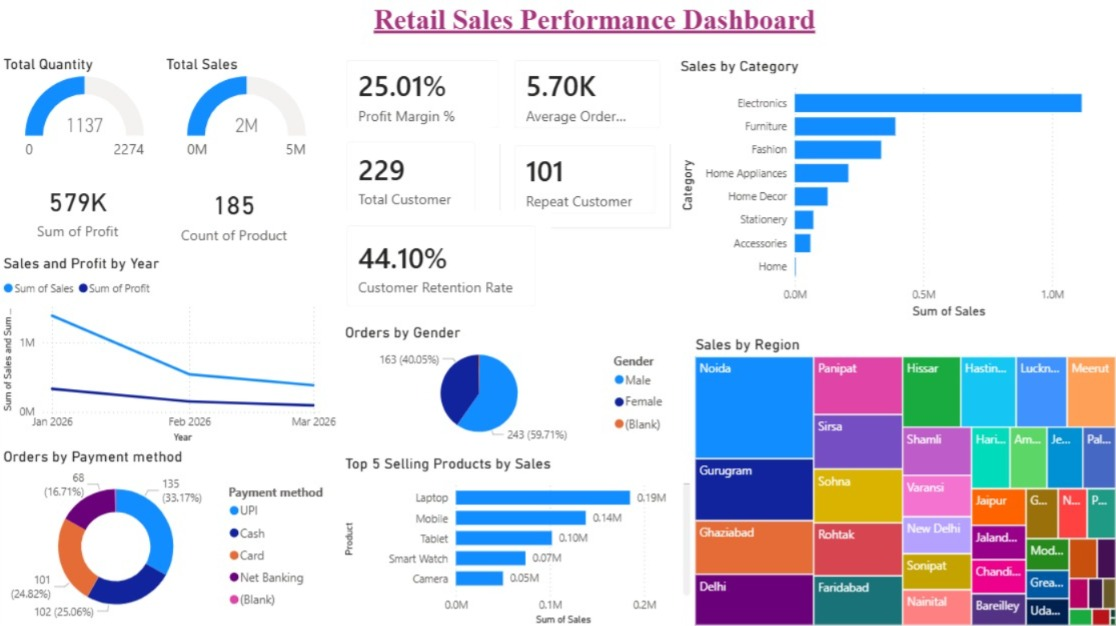

This screenshot's page, from the dashboard's own definition file:
{"tool":"powerbi","page":{"name":"Page 1","canvas":[1280,720],"ordinal":0},"visuals":[{"type":"barChart","title":"Sales by Category","fields":{"Category":["Table2.Category"],"Y":["Sum(Table2.Sales)"]},"box":[772.9,65.7,507.1,304.3],"z":0},{"type":"lineChart","title":"Sales and Profit by Year","fields":{"Category":["Table2.Date.Variation.Date Hierarchy.Year","Table2.Date.Variation.Date Hierarchy.Quarter","Table2.Date.Variation.Date Hierarchy.Month","Table2.Date.Variation.Date Hierarchy.Day"],"Y":["Sum(Table2.Sales)","Sum(Table2.Profit)"]},"box":[0,291.4,390,220],"z":1000},{"type":"treemap","title":"Sales by Region","fields":{"Values":["Sum(Table2.Sales)"],"Group":["Table2.Region"]},"box":[790,384.3,490,335.7],"z":2000},{"type":"gauge","title":"Total Quantity","fields":{"Y":["Sum(Table2.Quantity)"]},"box":[0,64.3,195.7,128.6],"z":3000},{"type":"gauge","title":"Total Sales","fields":{"Y":["Sum(Table2.Sales)"]},"box":[185.7,64.3,194.3,128.6],"z":4000},{"type":"card","fields":{"Values":["Sum(Table2.Profit)"]},"box":[2.9,197.1,174.3,87.1],"z":5000},{"type":"card","fields":{"Values":["Count(Table2.Product)"]},"box":[177.1,197.1,182.9,94.3],"z":6000},{"type":"pieChart","title":"Orders by Gender","fields":{"Category":["Table2.Gender"],"Y":["Count(Table2.Order ID)"]},"box":[390,370,382.9,141.4],"z":7000},{"type":"donutChart","title":"Orders by Payment method","fields":{"Category":["Table2.Payment method"],"Y":["Count(Table2.Order ID)"]},"box":[0,511.4,390,208.6],"z":8000},{"type":"cardVisual","fields":{"Data":["Table2.Profit Margin %"]},"box":[380,52.9,208.6,112.9],"z":9000},{"type":"barChart","title":"Top 5 Selling Products by Sales","fields":{"Category":["Table2.Product"],"Y":["Sum(Table2.Sales)"]},"box":[390,520,404.3,200],"z":10000},{"type":"cardVisual","fields":{"Data":["Table2.Repeat Customer"]},"box":[571.4,150,195.7,112.9],"z":11000},{"type":"cardVisual","fields":{"Data":["Table2.Total Customer"]},"box":[380,145.7,181.4,117.1],"z":12000},{"type":"cardVisual","fields":{"Data":["Table2.Customer Retention"]},"box":[380,241.4,250,127.1],"z":13000},{"type":"cardVisual","fields":{"Data":["Table2.Average Order Value"]},"box":[571.4,52.9,201.4,112.9],"z":14000},{"type":"textbox","box":[422.9,0,528.6,48.6],"z":15000}]}

Visuals, with their boxes in screenshot pixels (x1, y1, x2, y2), scaled from the page's 1280x720 canvas onto the 1116x626 screenshot:
"Sales by Category" barChart: <bbox>674, 57, 1115, 322</bbox>
"Sales and Profit by Year" lineChart: <bbox>0, 253, 340, 445</bbox>
"Sales by Region" treemap: <bbox>689, 334, 1115, 625</bbox>
"Total Quantity" gauge: <bbox>0, 56, 171, 168</bbox>
"Total Sales" gauge: <bbox>162, 56, 331, 168</bbox>
card - Sum(Table2.Profit): <bbox>3, 171, 154, 247</bbox>
card - Count(Table2.Product): <bbox>154, 171, 314, 253</bbox>
"Orders by Gender" pieChart: <bbox>340, 322, 674, 445</bbox>
"Orders by Payment method" donutChart: <bbox>0, 445, 340, 625</bbox>
cardVisual - Table2.Profit Margin %: <bbox>331, 46, 513, 144</bbox>
"Top 5 Selling Products by Sales" barChart: <bbox>340, 452, 693, 625</bbox>
cardVisual - Table2.Repeat Customer: <bbox>498, 130, 669, 229</bbox>
cardVisual - Table2.Total Customer: <bbox>331, 127, 489, 228</bbox>
cardVisual - Table2.Customer Retention: <bbox>331, 210, 549, 320</bbox>
cardVisual - Table2.Average Order Value: <bbox>498, 46, 674, 144</bbox>
textbox: <bbox>369, 0, 830, 42</bbox>
